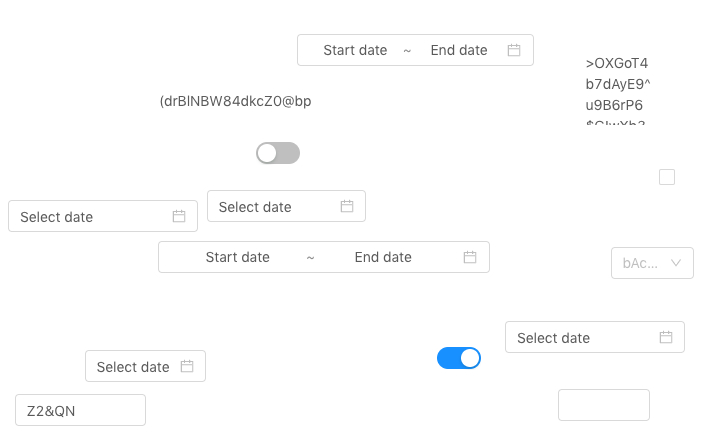Checkbox: (659, 166, 675, 187)
DatePicker: (8, 200, 198, 232), (505, 321, 685, 353), (207, 190, 366, 222), (85, 350, 206, 382)
Input: (15, 394, 146, 426), (558, 389, 650, 421)
RangePicker: (158, 241, 564, 273), (297, 34, 534, 66)
Select: (611, 247, 694, 279)
Switch: (256, 141, 300, 165), (437, 346, 481, 370)
Text: (586, 52, 651, 125), (159, 90, 317, 115)
